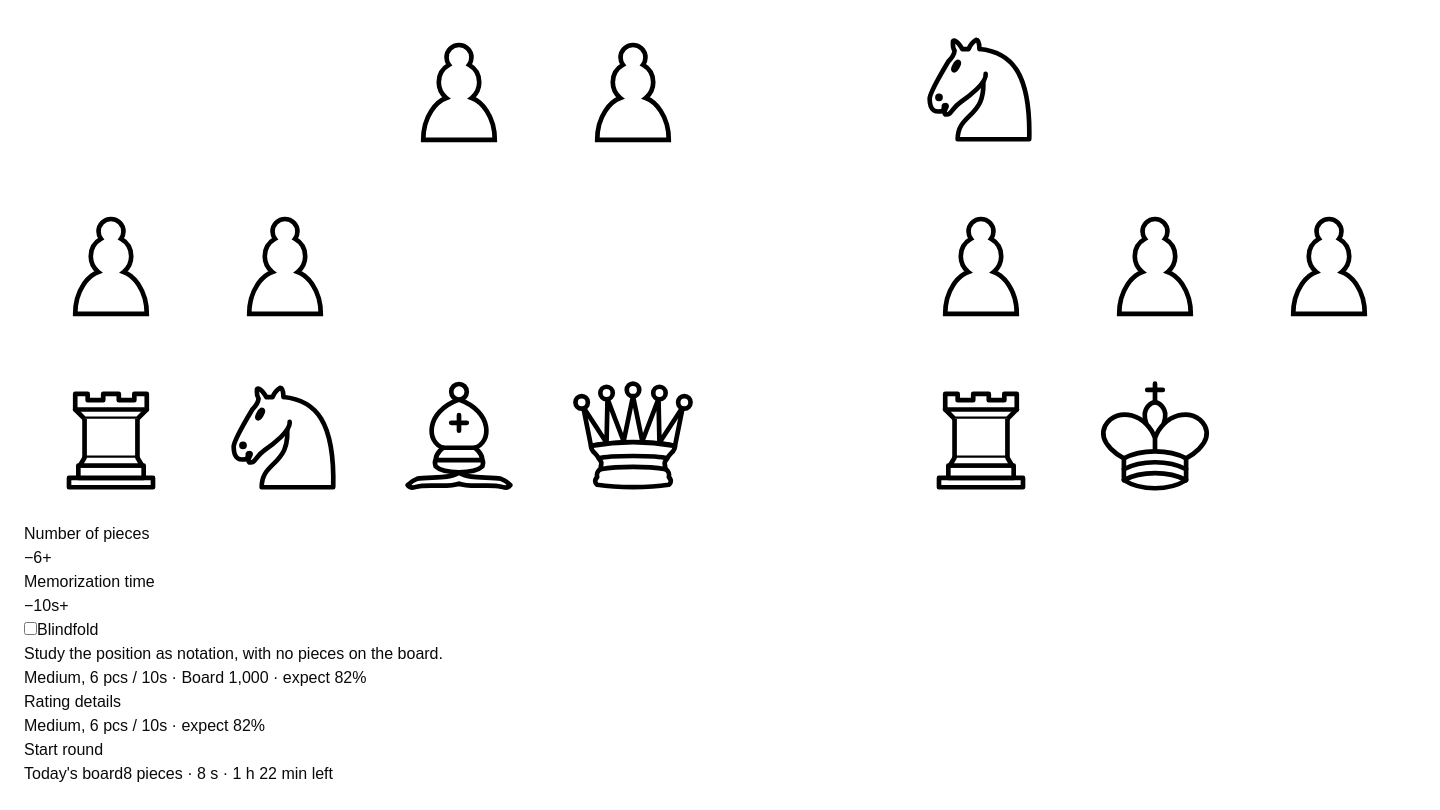
it: rating preview on the setup card › names custom settings in the summary
(page scrolled)
Click the button named "More pieces" at {"x": 47, "y": 558}, box [42,546,52,570]
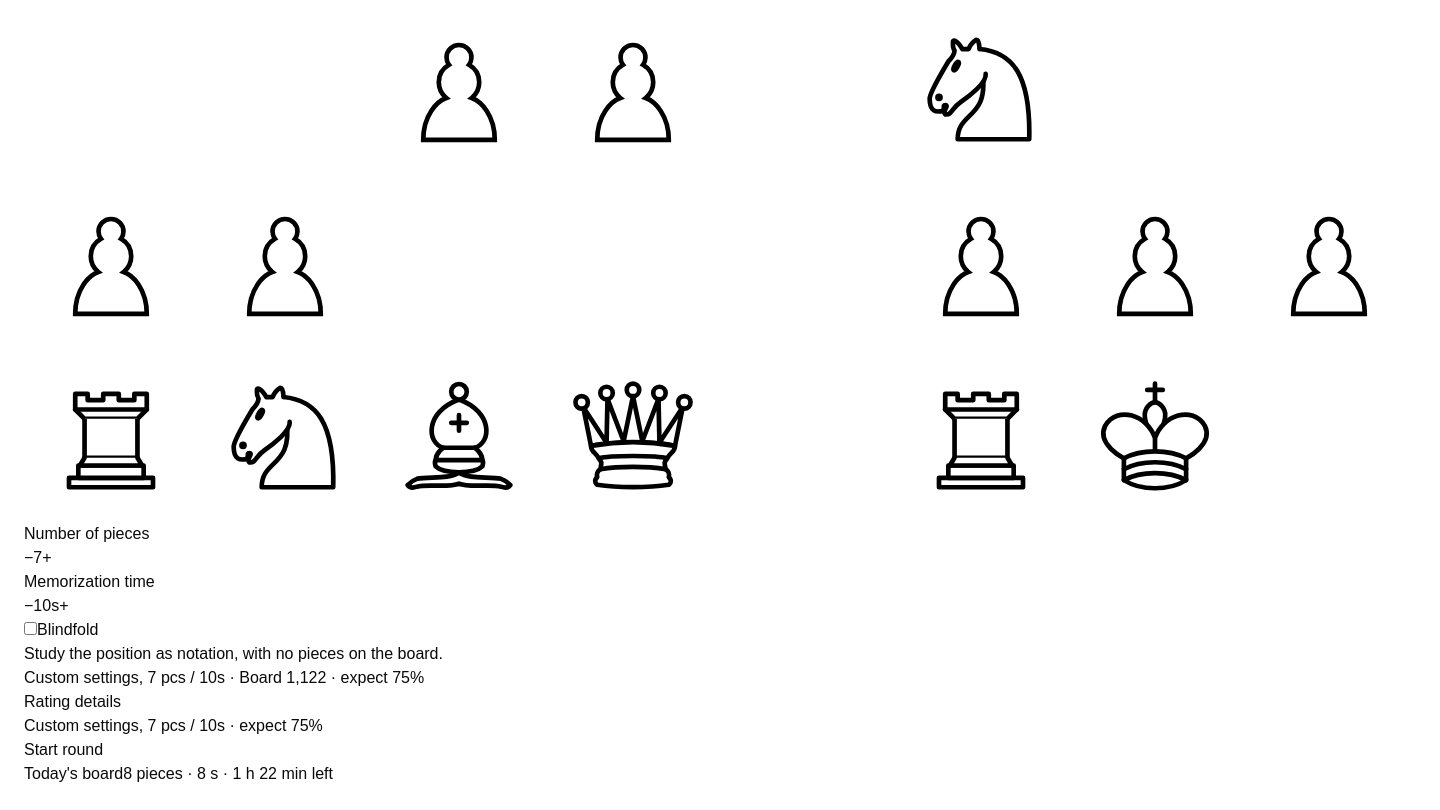
Check: the element showing "Custom settings, 7 pcs / 10s · Board 1,122 · expect 75%" is shown, box [24,669,424,686]
